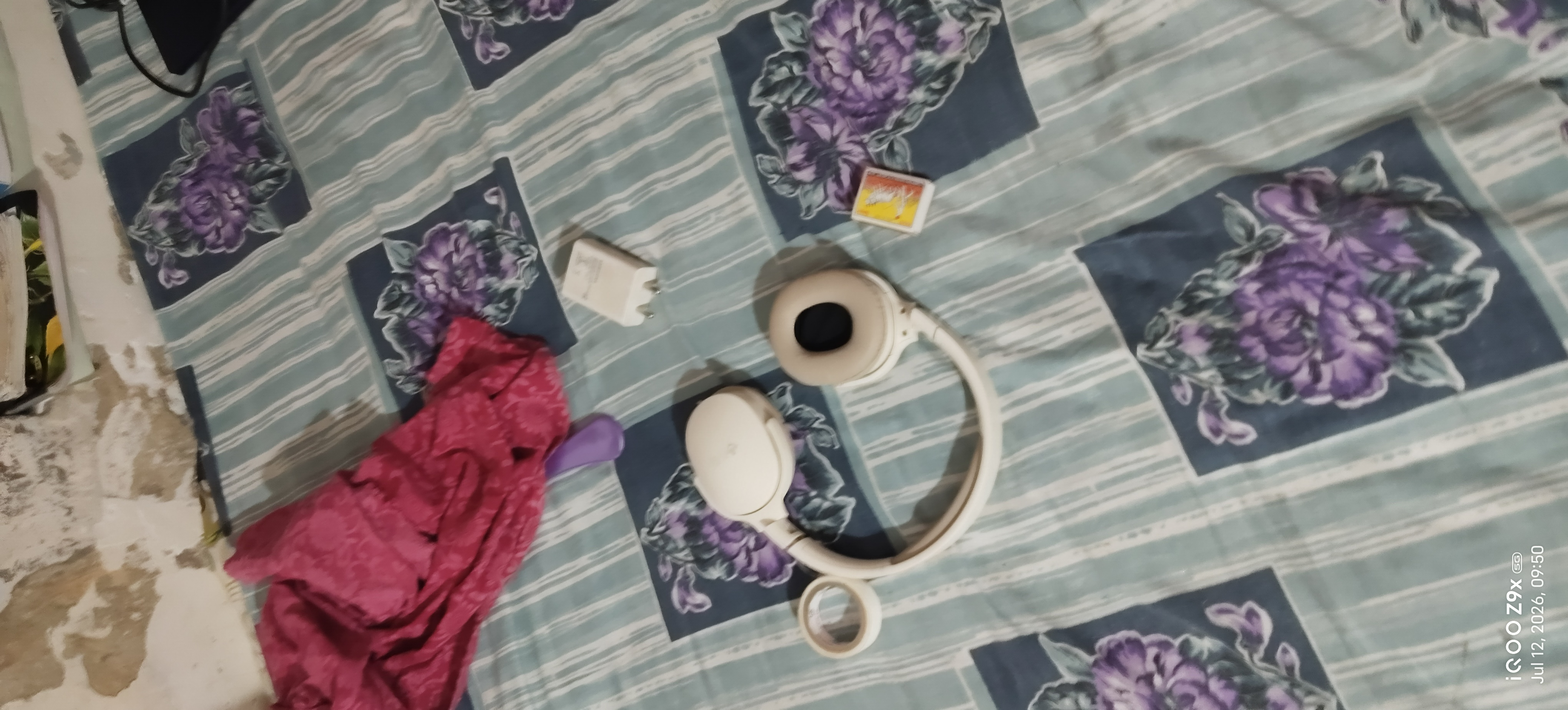charger: (542, 204, 685, 346)
matchbox: (834, 135, 962, 253)
tape_roll: (772, 554, 891, 680)
